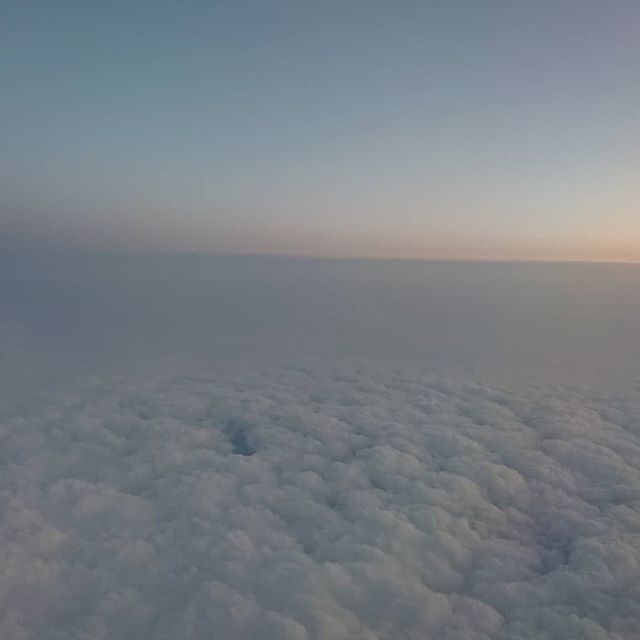sky: (1, 1, 634, 630)
